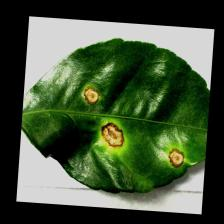greening: (78, 85, 186, 168)
